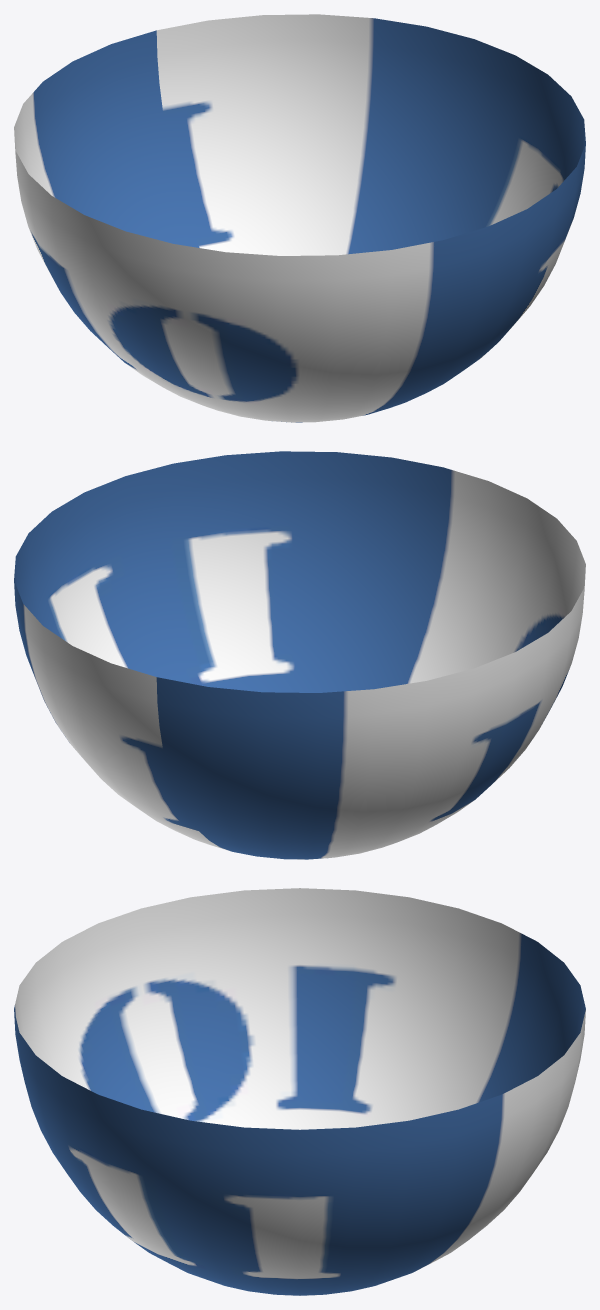
Rendered from Rui_Spl_Sphere03.fbx.
The picture shows the model from 3 angles, top to bottom: view 1: azimuth 30°, elevation 25°; view 2: azimuth 150°, elevation 25°; view 3: azimuth 270°, elevation 25°; orthographic projection.
Parts seen in each view (by area): view 1: SM_d_e_P1007_V00_C00_SplKrt_Sphere_03; view 2: SM_d_e_P1007_V00_C00_SplKrt_Sphere_03; view 3: SM_d_e_P1007_V00_C00_SplKrt_Sphere_03.
Boxes of the visible parts, box(x1,y1,x2,y2) form: SM_d_e_P1007_V00_C00_SplKrt_Sphere_03: box(14, 14, 585, 422); SM_d_e_P1007_V00_C00_SplKrt_Sphere_03: box(14, 451, 585, 859); SM_d_e_P1007_V00_C00_SplKrt_Sphere_03: box(14, 888, 585, 1295).
Size of the model in its own units: 179 by 89.57 by 179.
